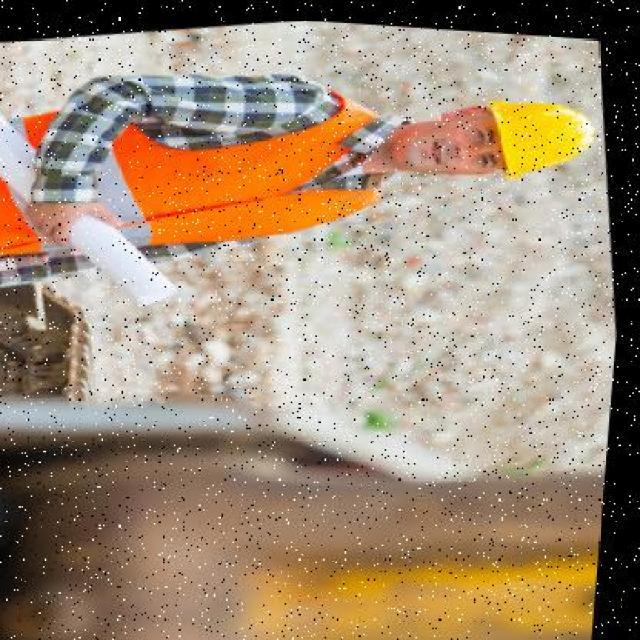helmet: (480, 73, 601, 188)
vest: (0, 57, 415, 291)
